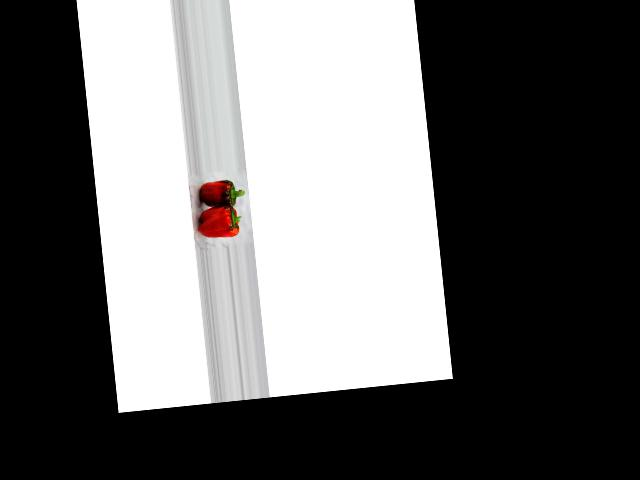bell_pepper: (196, 204, 246, 245)
